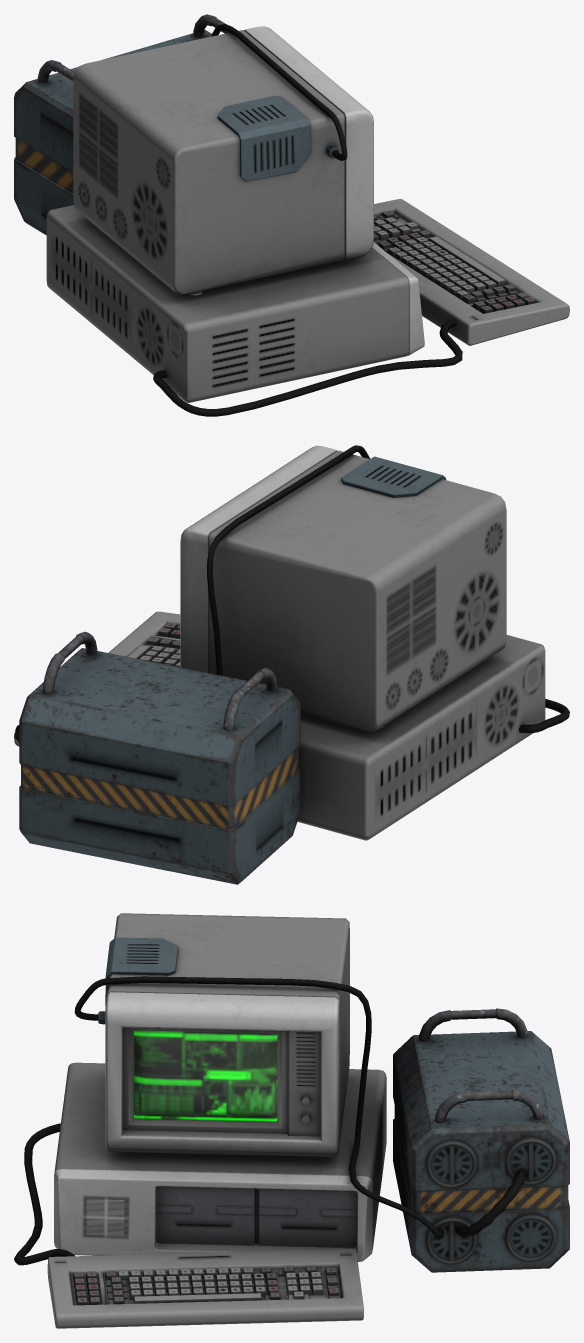
Rendered from Console 1.glb.
3 views of the same model, one above another, from view 1: azimuth 30°, elevation 25°; view 2: azimuth 150°, elevation 25°; view 3: azimuth 270°, elevation 25° (orthographic). The views are drawn at different scales.
Parts seen in each view (by area): view 1: Console_1; view 2: Console_1; view 3: Console_1.
Boxes of the visible parts, x1,y1,x2,y2 form: Console_1: (14,14,569,416); Console_1: (14,445,569,884); Console_1: (14,913,569,1328).
Size of the model in its own units: 0.6748 by 0.3998 by 0.8108.
Materials: 1 (1 with a texture image).
